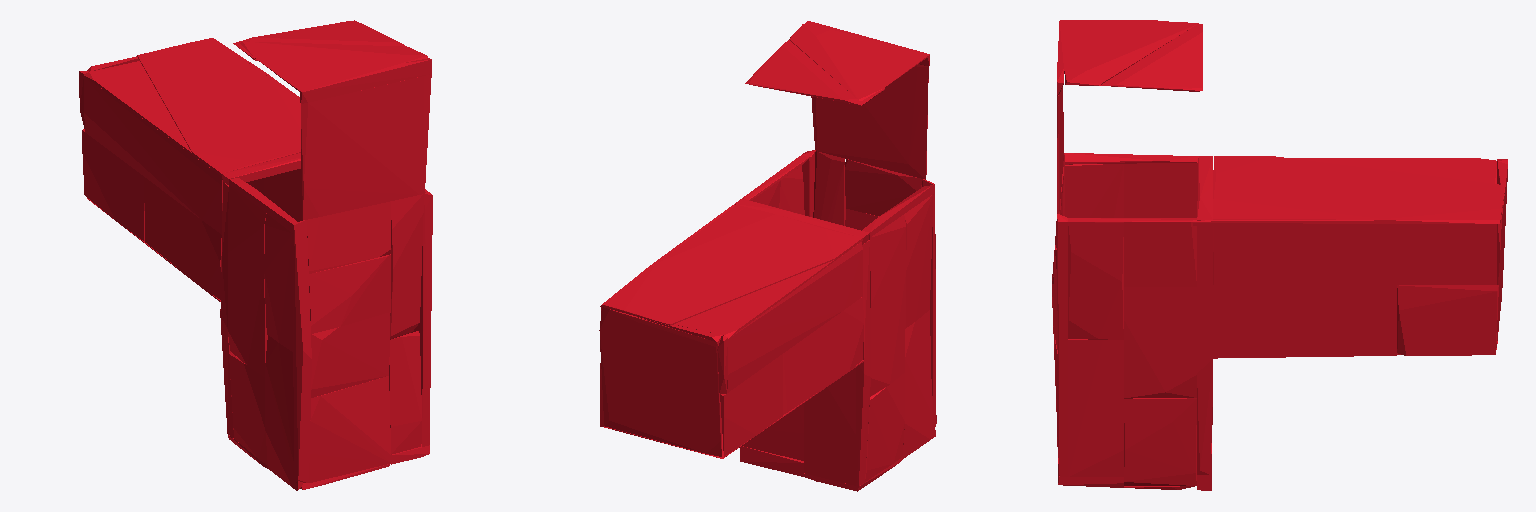
URDF robot description (blob817):
<robot name="blob817">
  <link name="random_obj_817">
    <contact>
      <lateral_friction value="1.0"/>
      <rolling_friction value="0.0"/>
      <inertia_scaling value="3.0"/>
      <contact_cfm value="0.0"/>
      <contact_erp value="1.0"/>
    </contact>
    <inertial>
      <origin rpy="0 0 0" xyz="0 0 0"/>
      <mass value="0.1"/>
      <inertia ixx="1" ixy="0" ixz="0" iyy="1" iyz="0" izz="0"/>
    </inertial>
    <visual>
      <origin rpy="0 0 0" xyz="0 0 0"/>
      <geometry>
        <mesh filename="817.obj" scale="0.015 0.015 0.015"/>
      </geometry>
      <material name="blockmat">
        <color rgba="0.88 0.13 0.20 1"/>
      </material>
    </visual>
    <collision>
      <origin rpy="0 0 0" xyz="0 0 0"/>
      <geometry>
        <mesh filename="817.obj" scale="0.015 0.015 0.015"/>
      </geometry>
    </collision>
  </link>
</robot>

--- What the picture shows (computed from the rendered views, not written in the file) ---
The picture shows the robot from 3 angles, left to right: view 1: azimuth 30°, elevation 25°; view 2: azimuth 150°, elevation 25°; view 3: azimuth 270°, elevation 25°; orthographic projection.
Model blob817 with 1 links and 0 joints (none), rooted at random_obj_817, posed every joint at zero.
Links seen in each view (by area): view 1: random_obj_817; view 2: random_obj_817; view 3: random_obj_817.
Link boxes in pixels (x1,y1,x2,y2): random_obj_817: (79,20,432,490); random_obj_817: (599,21,936,491); random_obj_817: (1052,20,1507,490).
Bounding box of the posed robot: 0.0328 × 0.0926 × 0.0926 m (x, y, z).
Meshes: 1 distinct files referenced, 1 mesh visuals loaded (1 OBJ).